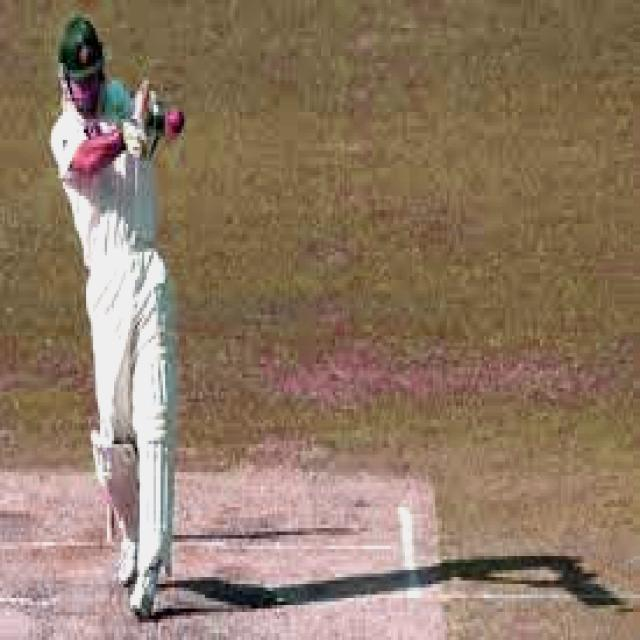toe: (151, 87, 164, 134)
